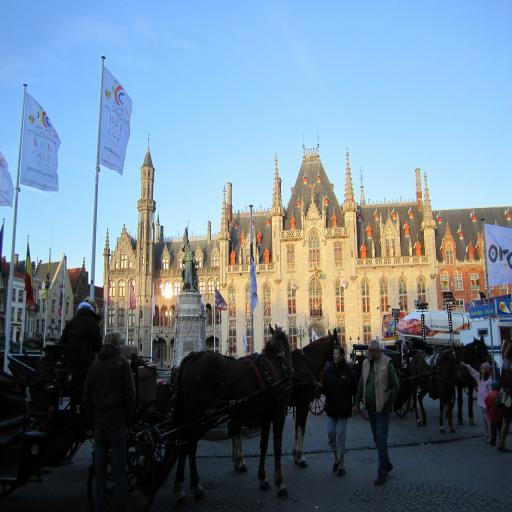horse: (173, 324, 293, 504), (232, 326, 341, 472), (408, 338, 466, 432), (435, 334, 488, 426)
